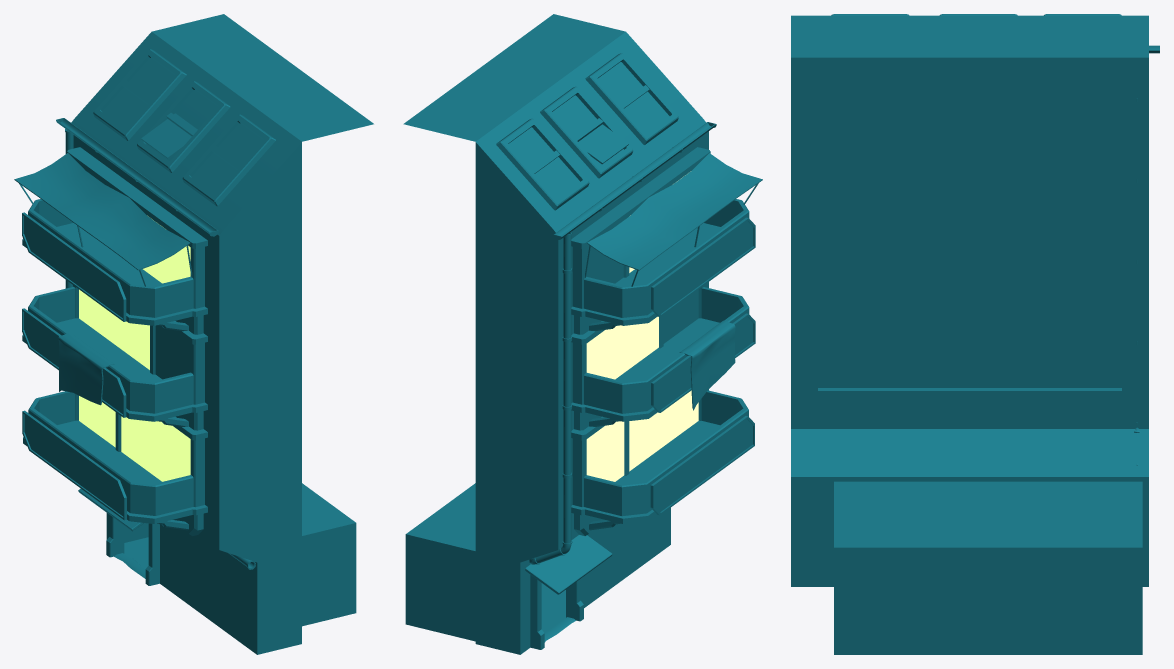
The model's file is Mesh_BackgroungBuilding_01.FBX.
3 views of the same model, side by side, from view 1: azimuth 30°, elevation 25°; view 2: azimuth 150°, elevation 25°; view 3: azimuth 270°, elevation 25° (orthographic). The views are drawn at different scales.
Parts seen in each view (by area): view 1: Mesh_BackgroungBuilding_01; view 2: Mesh_BackgroungBuilding_01; view 3: Mesh_BackgroungBuilding_01.
Boxes of the visible parts, box(x1,y1,x2,y2) form: Mesh_BackgroungBuilding_01: box(14, 14, 373, 654); Mesh_BackgroungBuilding_01: box(403, 14, 762, 654); Mesh_BackgroungBuilding_01: box(791, 14, 1159, 654).
Size of the model in its own units: 876 by 1841 by 1031.
